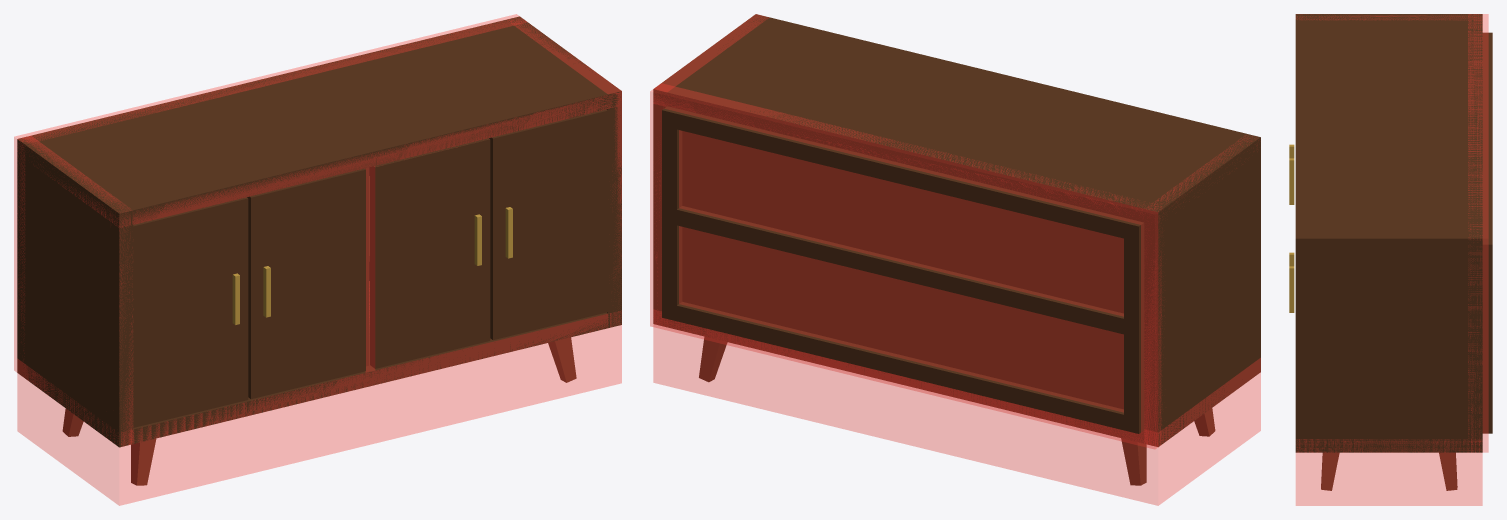
The model's file is SideboardS03.glb.
3 views of the same model, side by side, from view 1: azimuth 30°, elevation 25°; view 2: azimuth 150°, elevation 25°; view 3: azimuth 270°, elevation 25° (orthographic). The views are drawn at different scales.
Visible parts, largest first — view 1: Body_Wood, Col_Base, Door3_HingeL_Wood, Door4_HingeR_Wood, Door2_HingeR_Wood, Door1_HingeL_Wood, Col_Back, Col_Top, Col_SideRight, Col_Divider, Col_SideLeft; view 2: Body_Wood, Col_Back, Col_Base, Col_SideRight; view 3: Body_Wood, Col_Base, Col_Back, Col_SideLeft, Door2_HingeR_Brass, Door4_HingeR_Brass.
Boxes of the visible parts, x1,y1,x2,y2 form: Body_Wood: [17, 16, 621, 485]; Col_Base: [17, 281, 621, 505]; Door3_HingeL_Wood: [370, 138, 490, 368]; Door4_HingeR_Wood: [489, 109, 607, 340]; Door2_HingeR_Wood: [247, 168, 365, 399]; Door1_HingeL_Wood: [133, 197, 248, 427]; Col_Back: [14, 14, 526, 371]; Col_Top: [58, 93, 619, 227]; Col_SideRight: [507, 18, 621, 256]; Col_Divider: [365, 166, 374, 372]; Col_SideLeft: [21, 136, 132, 444]; Body_Wood: [653, 14, 1260, 485]; Col_Back: [650, 83, 1161, 449]; Col_Base: [653, 310, 1260, 505]; Col_SideRight: [654, 14, 768, 257]; Body_Wood: [1295, 14, 1492, 490]; Col_Base: [1296, 439, 1482, 505]; Col_Back: [1468, 14, 1488, 452]; Col_SideLeft: [1296, 15, 1480, 19]; Door2_HingeR_Brass: [1289, 158, 1294, 204]; Door4_HingeR_Brass: [1289, 266, 1294, 312].
Size of the model in its own units: 5.4 by 3.01 by 2.06.
